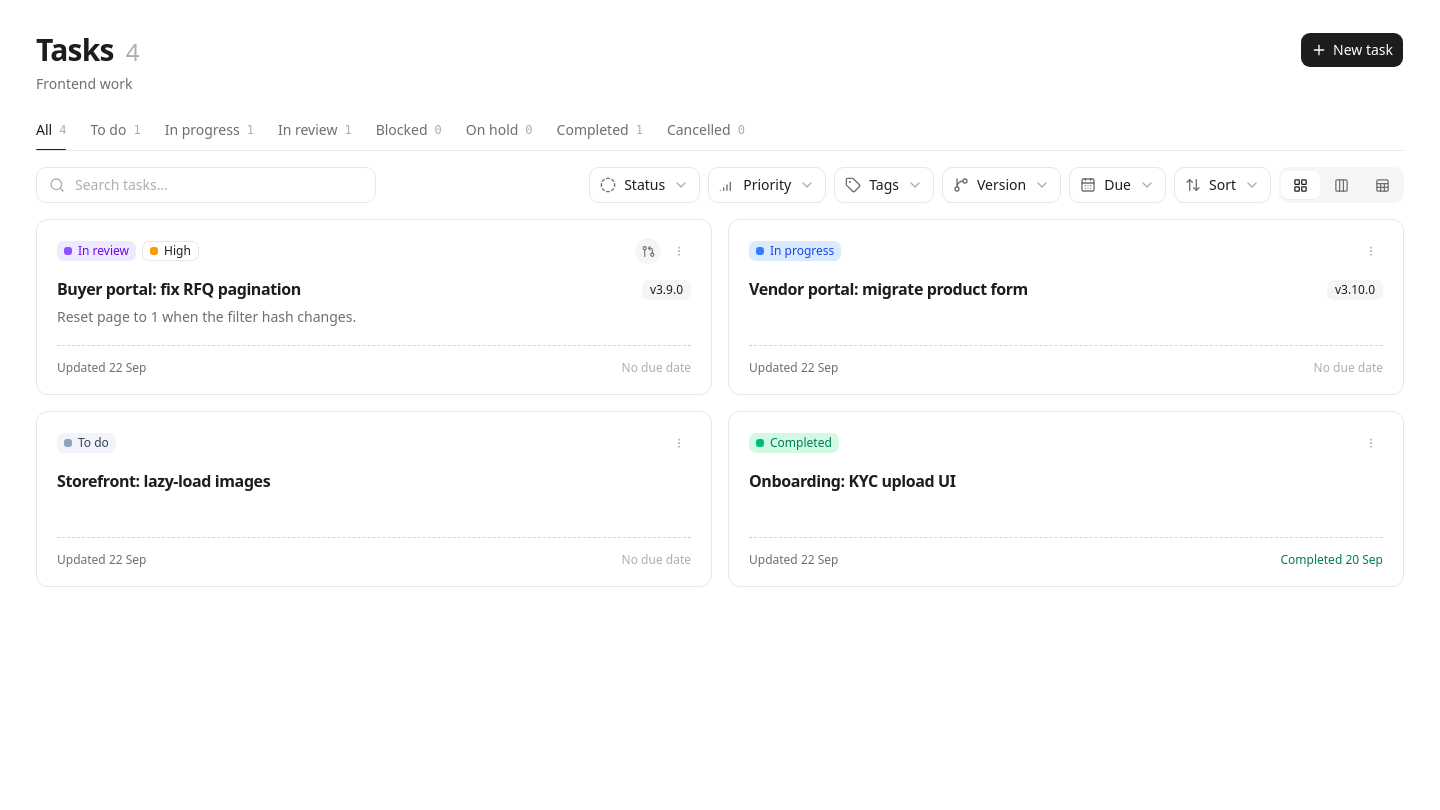
Scenario: TasksPage › shows versions on the card and filters by version through the URL
The image size is (1440, 810).
Expected: the text "v3.9.0" is shown, [650,282,683,298]
Click the button "Version". click: (1002, 185)
box: [942,167,1061,203]
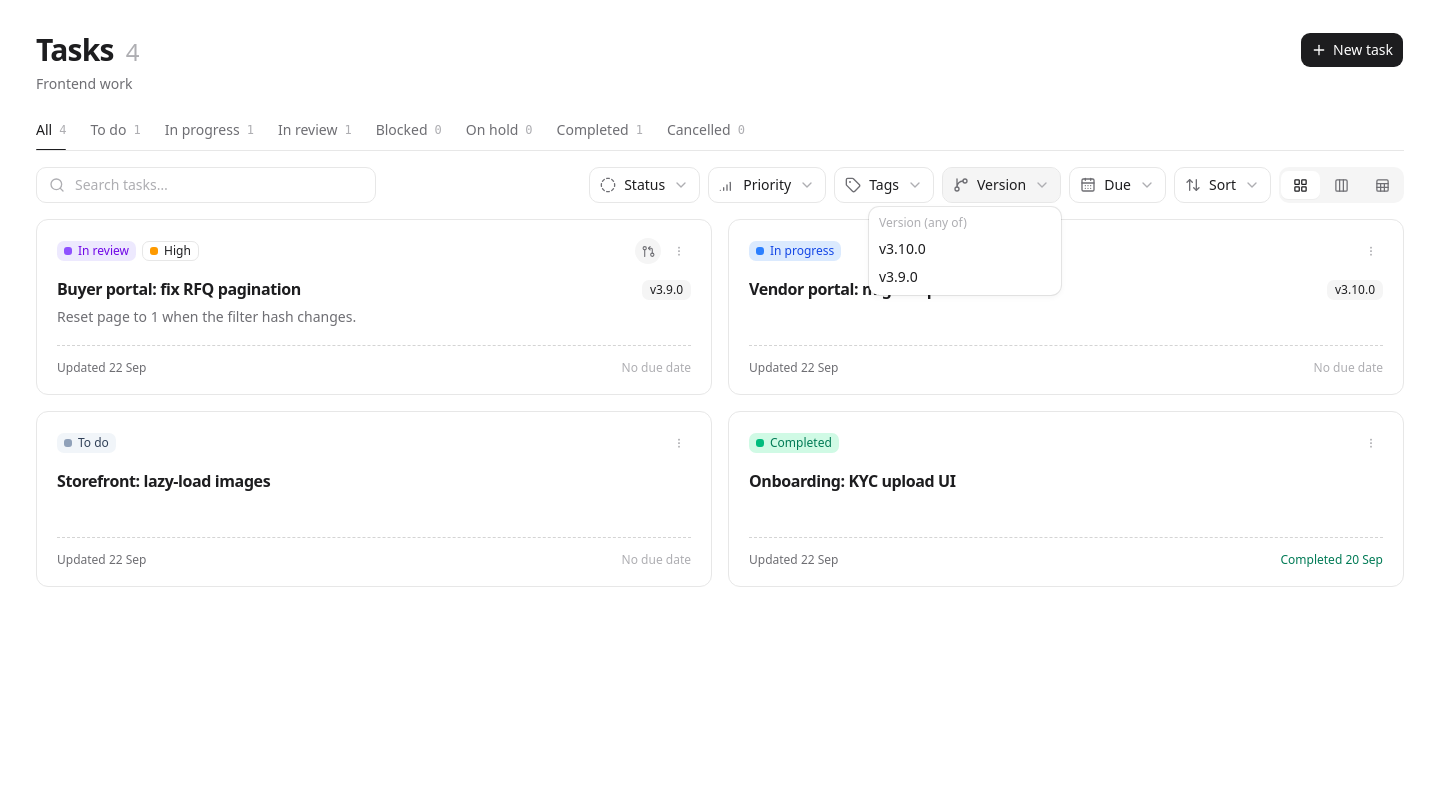
Click the menu item "v3.9.0". click: (898, 276)
box: [879,267,918,286]
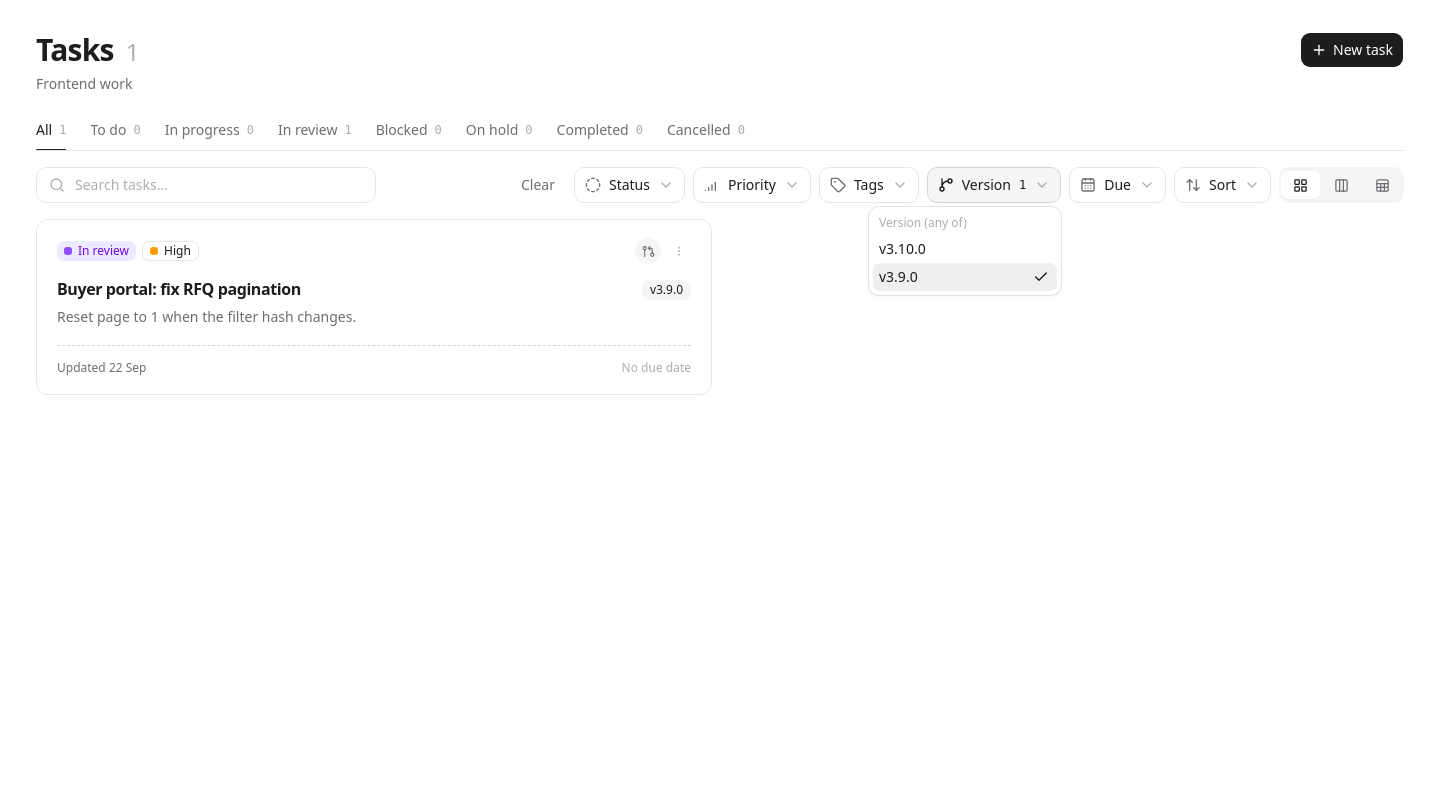
Expected: the heading "Buyer portal: fix RFQ pagination" is shown, [57,278,301,300]
Expected: the heading "Vendor portal: migrate product form" is gone
